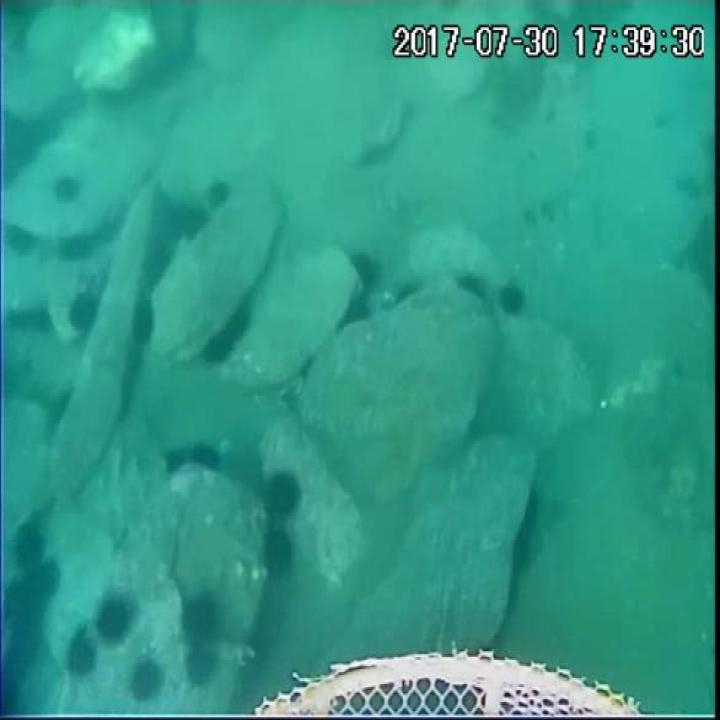echinus: (183, 591, 226, 654), (256, 519, 298, 583), (2, 578, 46, 636), (258, 470, 306, 522), (10, 523, 49, 573), (180, 645, 222, 691), (96, 592, 131, 644), (129, 658, 165, 708), (174, 201, 212, 246), (129, 297, 160, 351), (66, 291, 104, 335), (10, 303, 55, 339), (65, 633, 100, 679), (6, 219, 41, 264), (187, 437, 226, 477), (198, 331, 236, 369), (56, 231, 96, 264), (456, 268, 490, 306), (498, 279, 530, 318), (348, 251, 383, 285), (53, 176, 86, 212), (344, 291, 374, 330), (203, 179, 236, 213), (391, 280, 421, 312), (160, 446, 189, 479)
